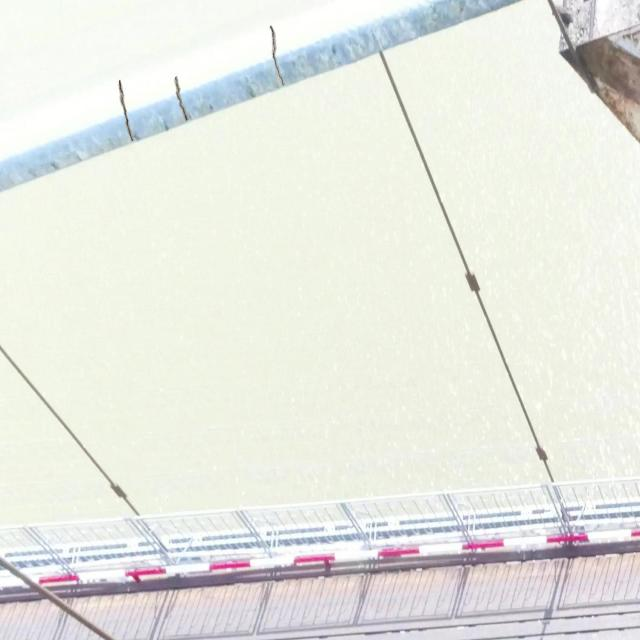crack: (118, 78, 135, 142), (270, 25, 284, 86), (173, 77, 188, 120)
